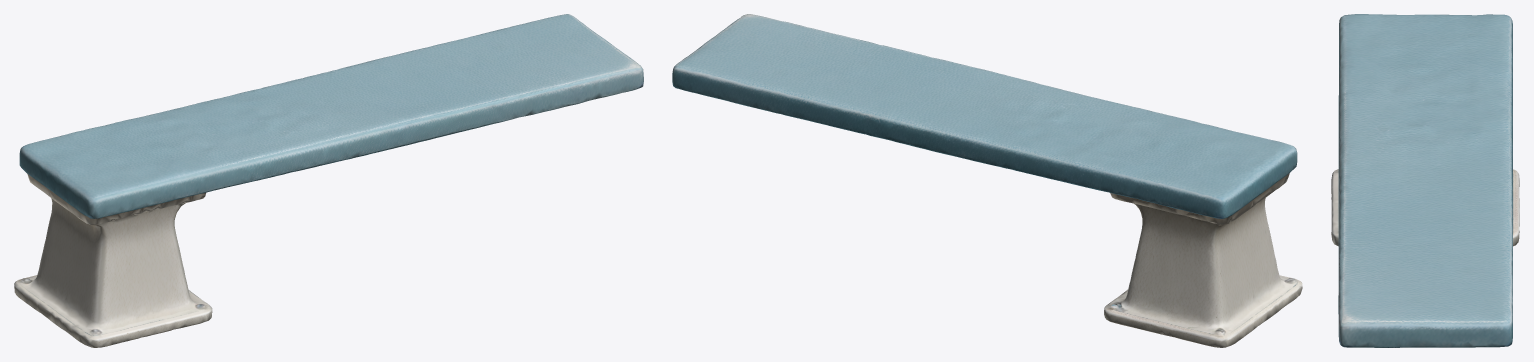
The model's file is VAR_SunkenCity_DivingBoard.fbx.
3 renders of one model, left to right at view 1: azimuth 30°, elevation 25°; view 2: azimuth 150°, elevation 25°; view 3: azimuth 270°, elevation 25°, orthographic. The views are drawn at different scales.
Visible parts, largest first — view 1: texture_mapping; view 2: texture_mapping; view 3: texture_mapping.
Part boxes in pixels (box(x1,y1,x2,y2)): texture_mapping: box(14, 14, 643, 347); texture_mapping: box(672, 14, 1302, 347); texture_mapping: box(1331, 14, 1519, 347).
Bounding box in the file's own units: 1 × 0.2544 × 0.258.
1 material, 1 textured.
